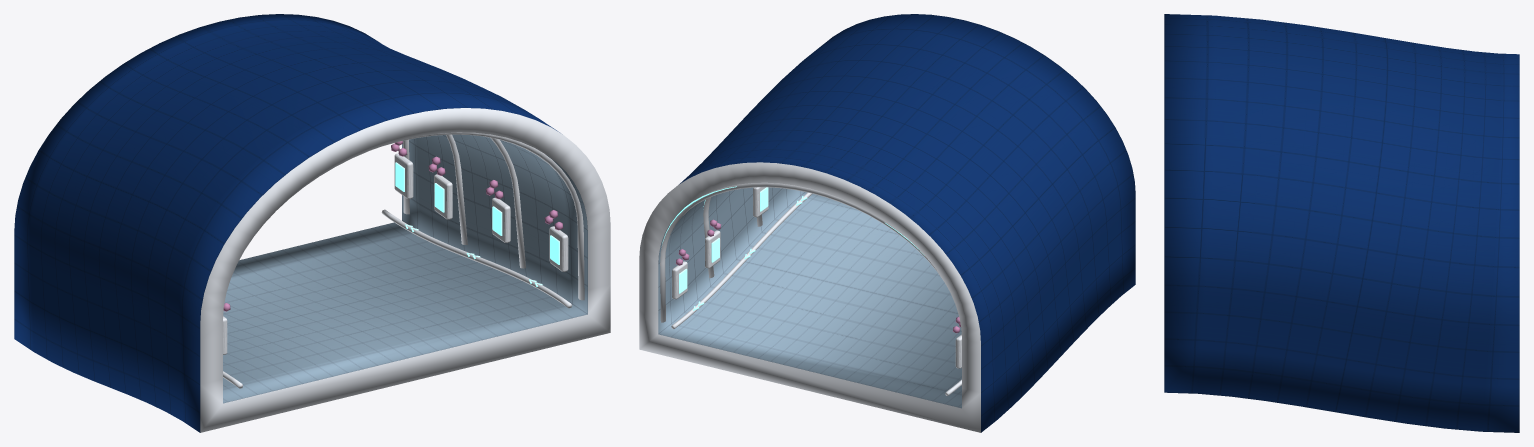
File: grade_down.glb
3 views of the same model, side by side, from view 1: azimuth 30°, elevation 25°; view 2: azimuth 150°, elevation 25°; view 3: azimuth 270°, elevation 25° (orthographic). The views are drawn at different scales.
Visible parts, largest first — view 1: TunnelGeometry; view 2: TunnelGeometry; view 3: TunnelGeometry.
Part boxes in pixels (x1=…): TunnelGeometry: x1=14, y1=14, x2=610, y2=432; TunnelGeometry: x1=639, y1=14, x2=1135, y2=432; TunnelGeometry: x1=1164, y1=14, x2=1519, y2=432.
Size of the model in its own units: 15.3 by 11.02 by 12.
5 materials, 2 textured.
